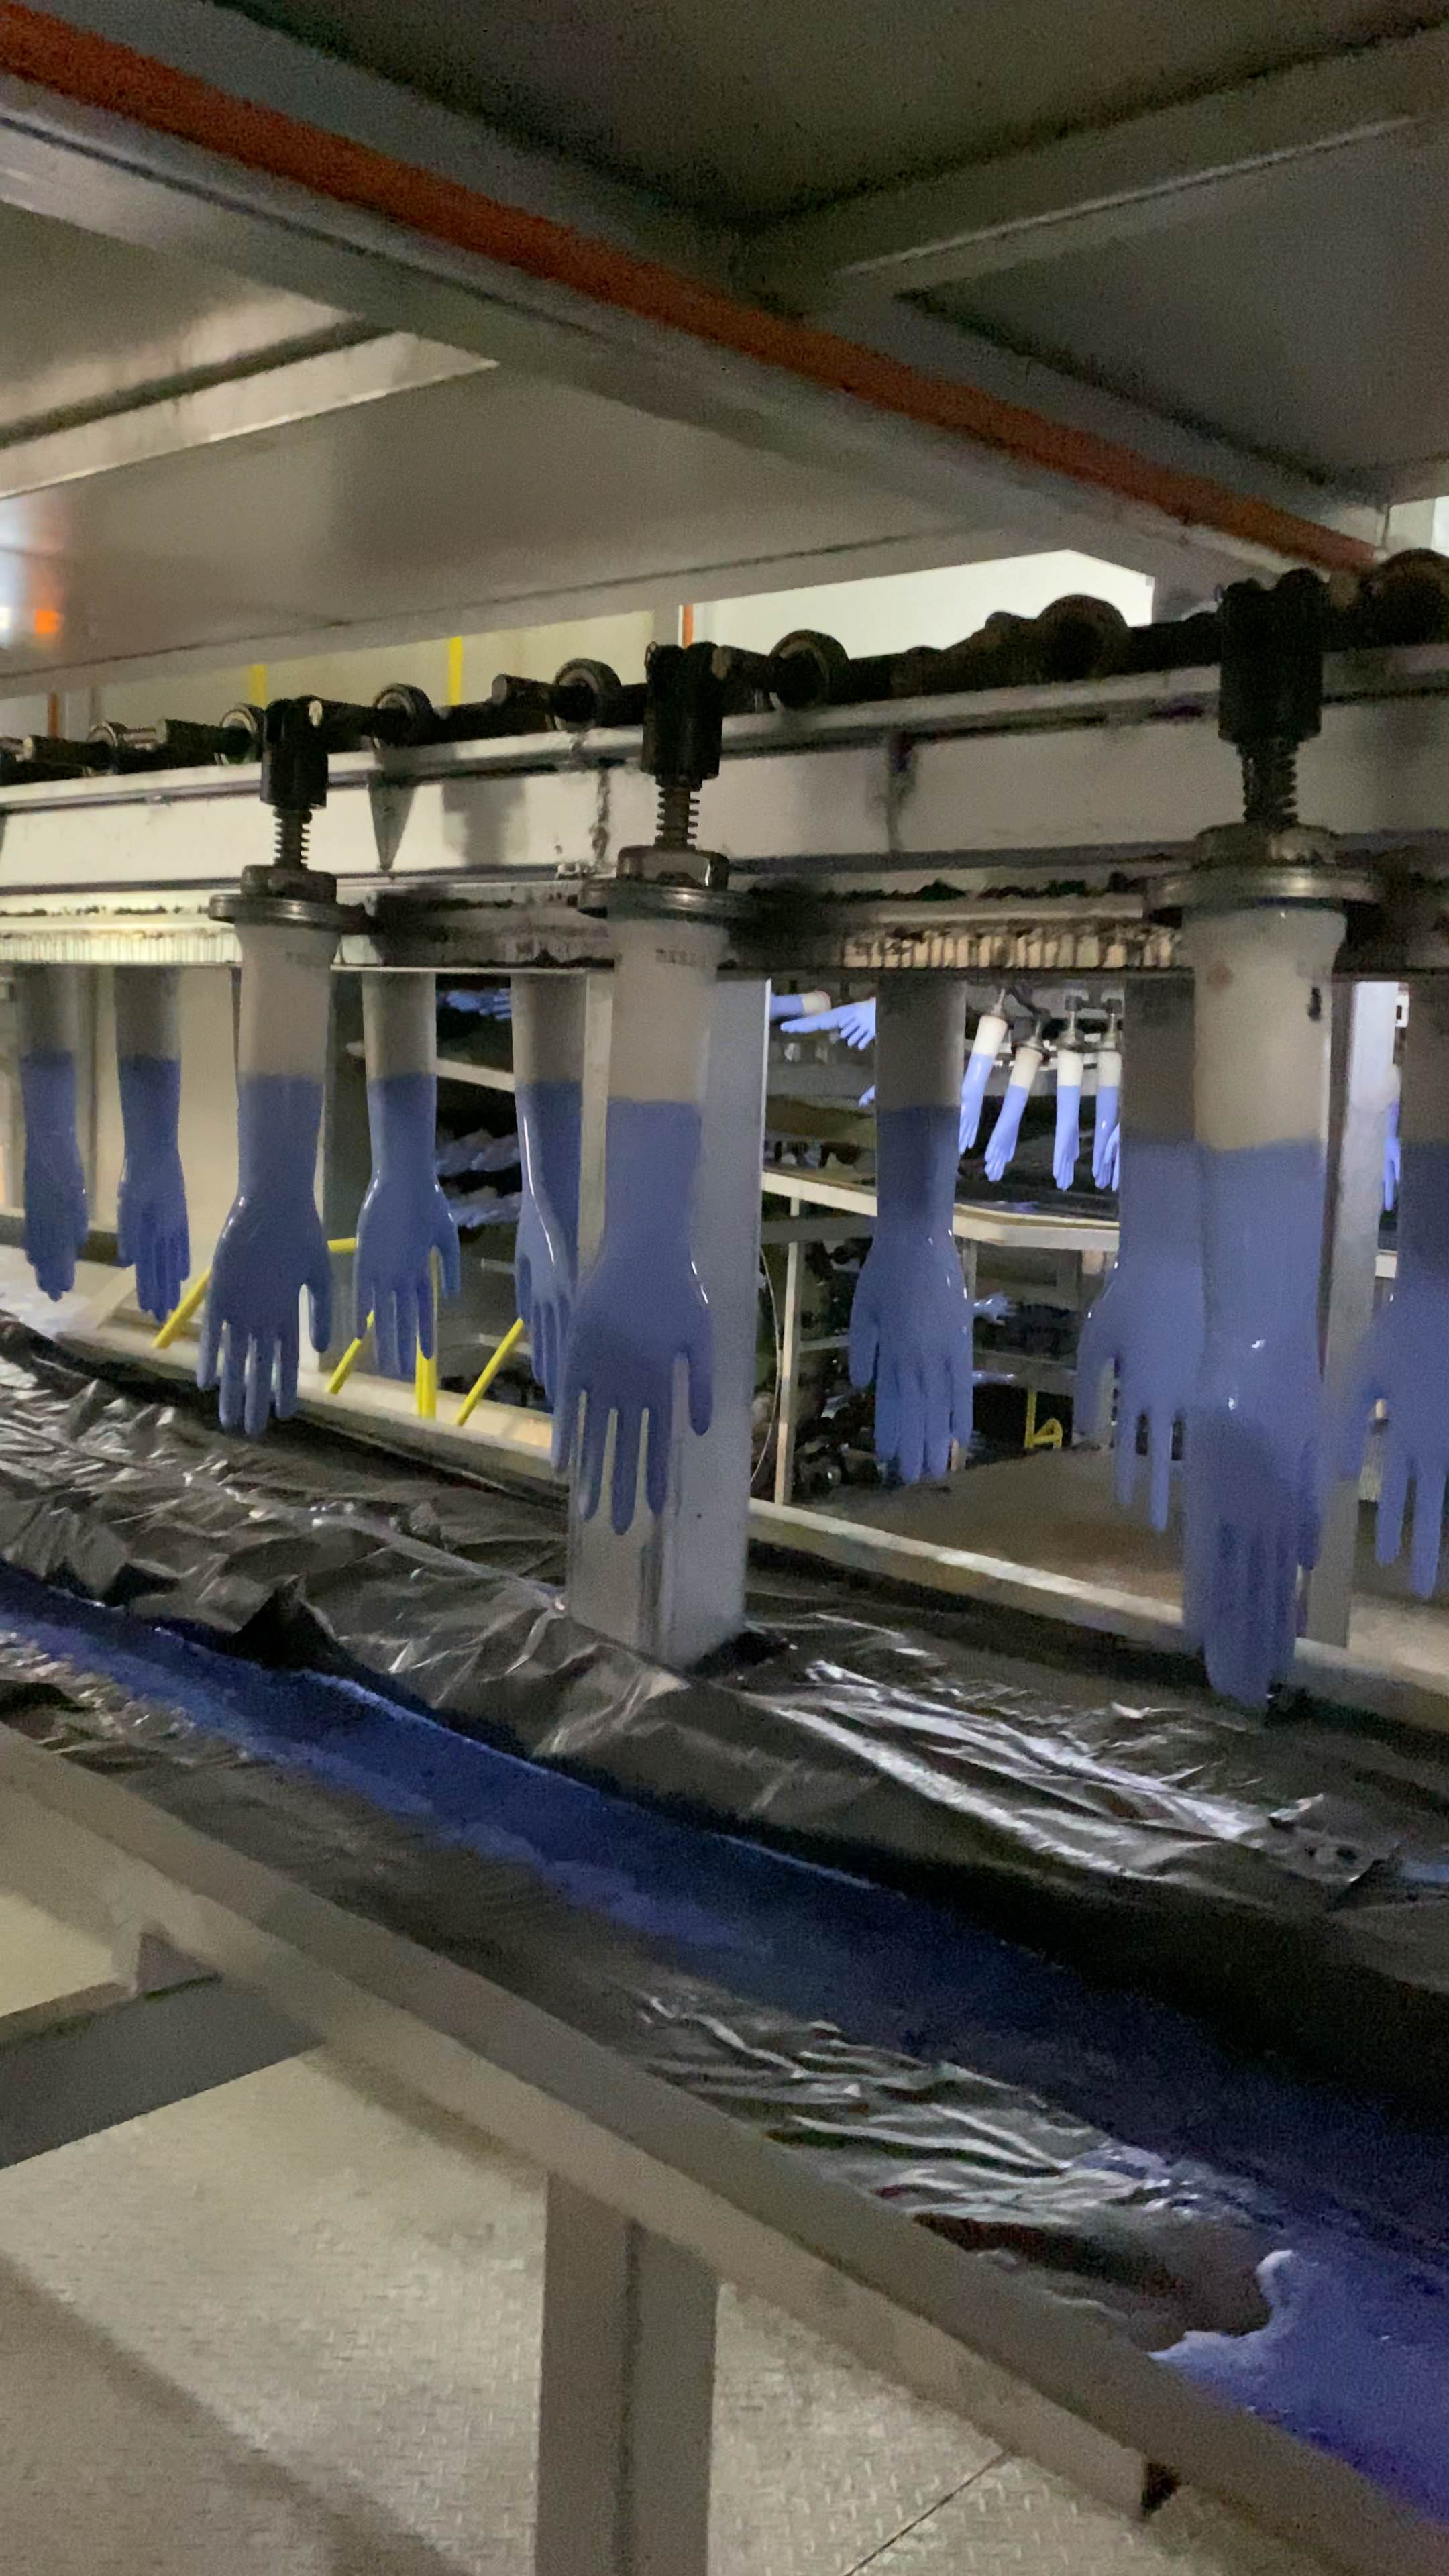glove: (1184, 1141, 1322, 1709), (550, 1100, 715, 1532), (1336, 1139, 1449, 1599), (1070, 1145, 1205, 1527), (200, 1074, 334, 1433), (847, 1108, 971, 1483), (354, 1076, 460, 1378), (513, 1079, 577, 1405), (115, 1056, 191, 1323), (23, 1047, 87, 1304), (982, 1085, 1028, 1180), (1092, 1090, 1122, 1196), (778, 1001, 872, 1033), (1049, 1085, 1077, 1189), (448, 985, 511, 1021), (1382, 1108, 1401, 1210), (973, 1292, 1019, 1327), (839, 1007, 874, 1049)
